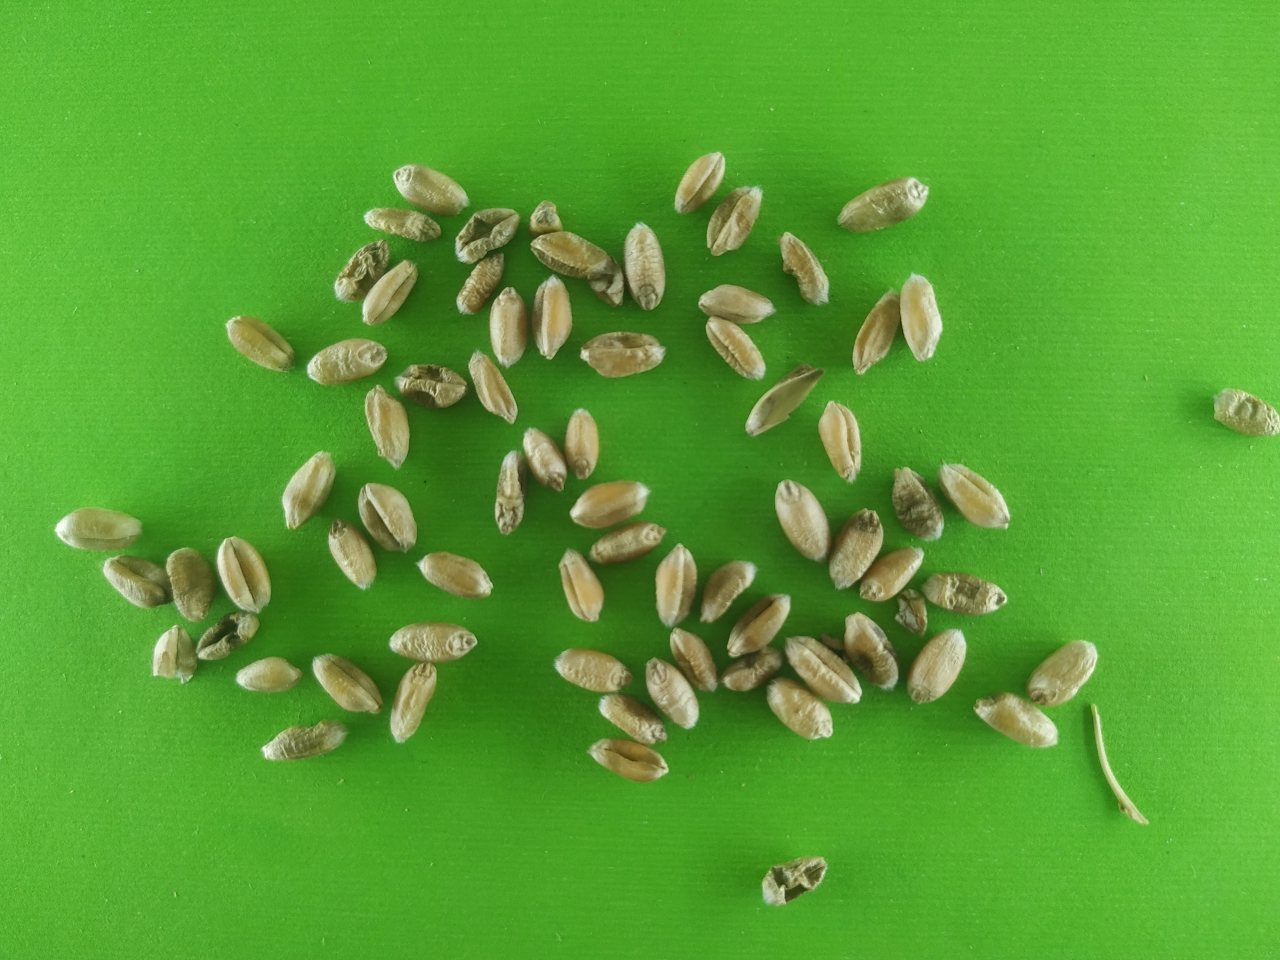bueno: (838, 174, 932, 233), (939, 458, 1011, 529), (973, 688, 1058, 747), (786, 636, 861, 701), (773, 478, 829, 563), (280, 450, 338, 530), (909, 627, 969, 704), (523, 272, 574, 360), (216, 534, 271, 615), (830, 504, 882, 591), (310, 651, 381, 714), (900, 269, 948, 360), (358, 480, 417, 553), (566, 479, 653, 528), (52, 506, 144, 553), (388, 664, 438, 746), (596, 689, 669, 745), (1034, 639, 1098, 704), (729, 591, 791, 656), (623, 220, 668, 310), (707, 312, 765, 381), (360, 257, 417, 328), (644, 657, 700, 729), (768, 681, 835, 741), (224, 314, 293, 371), (308, 334, 387, 384), (101, 555, 173, 609), (392, 162, 471, 212), (656, 539, 699, 628), (672, 150, 731, 216), (858, 544, 923, 602), (467, 349, 517, 425), (387, 622, 479, 664), (552, 645, 631, 693), (818, 397, 862, 483), (588, 517, 664, 566), (416, 551, 494, 598), (588, 738, 670, 783), (166, 547, 215, 622), (327, 520, 378, 591), (701, 562, 760, 622), (557, 547, 604, 622), (667, 625, 717, 693), (487, 286, 527, 368), (698, 280, 773, 324), (522, 427, 566, 493), (563, 405, 598, 481), (237, 655, 301, 693)
danado: (703, 184, 763, 258), (363, 382, 413, 470), (886, 466, 943, 542), (529, 230, 614, 279), (843, 612, 897, 689), (582, 330, 665, 378), (759, 853, 823, 913), (779, 231, 830, 306), (922, 570, 1011, 612), (1211, 383, 1278, 439), (392, 360, 473, 405), (458, 206, 521, 263), (334, 237, 390, 302), (260, 720, 347, 760), (492, 450, 530, 533), (456, 253, 506, 316), (197, 609, 258, 659), (365, 207, 440, 241), (724, 650, 784, 691)
impureza: (1086, 701, 1148, 826), (743, 368, 823, 438), (852, 288, 899, 374), (894, 588, 933, 637)
partido: (150, 623, 204, 685), (588, 265, 629, 303), (532, 200, 563, 234)
